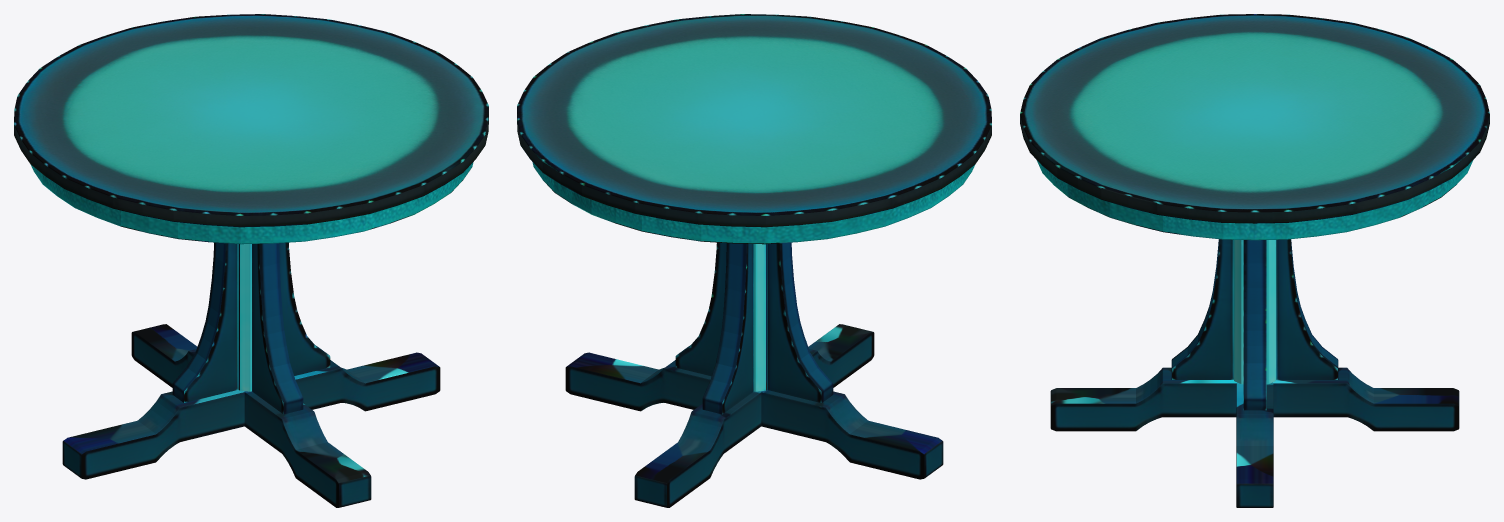
The model's file is edited_mesh.glb.
The picture shows the model from 3 angles, left to right: view 1: azimuth 30°, elevation 25°; view 2: azimuth 150°, elevation 25°; view 3: azimuth 270°, elevation 25°; orthographic projection.
Parts seen in each view (by area): view 1: normalized_model.obj; view 2: normalized_model.obj; view 3: normalized_model.obj.
Boxes of the visible parts, left/top/right/bottom form: normalized_model.obj: left=14, top=14, right=488, bottom=507; normalized_model.obj: left=517, top=14, right=991, bottom=507; normalized_model.obj: left=1020, top=14, right=1489, bottom=507.
Bounding box in the file's own units: 1.62 × 1.19 × 1.62.
1 material, 1 textured.
